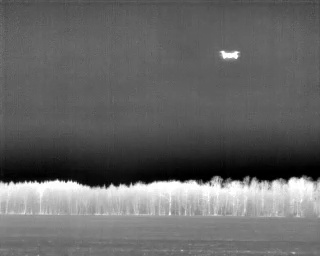DRONE: (215, 45, 243, 66)
